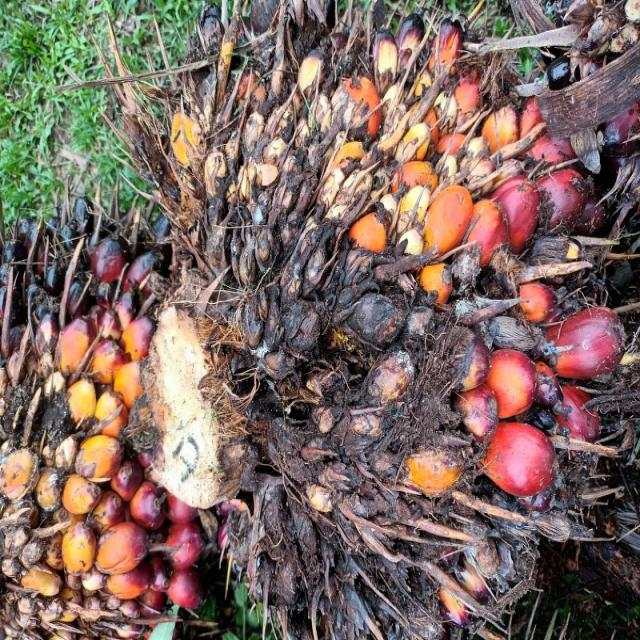fraksi 1: (16, 46, 512, 638)
